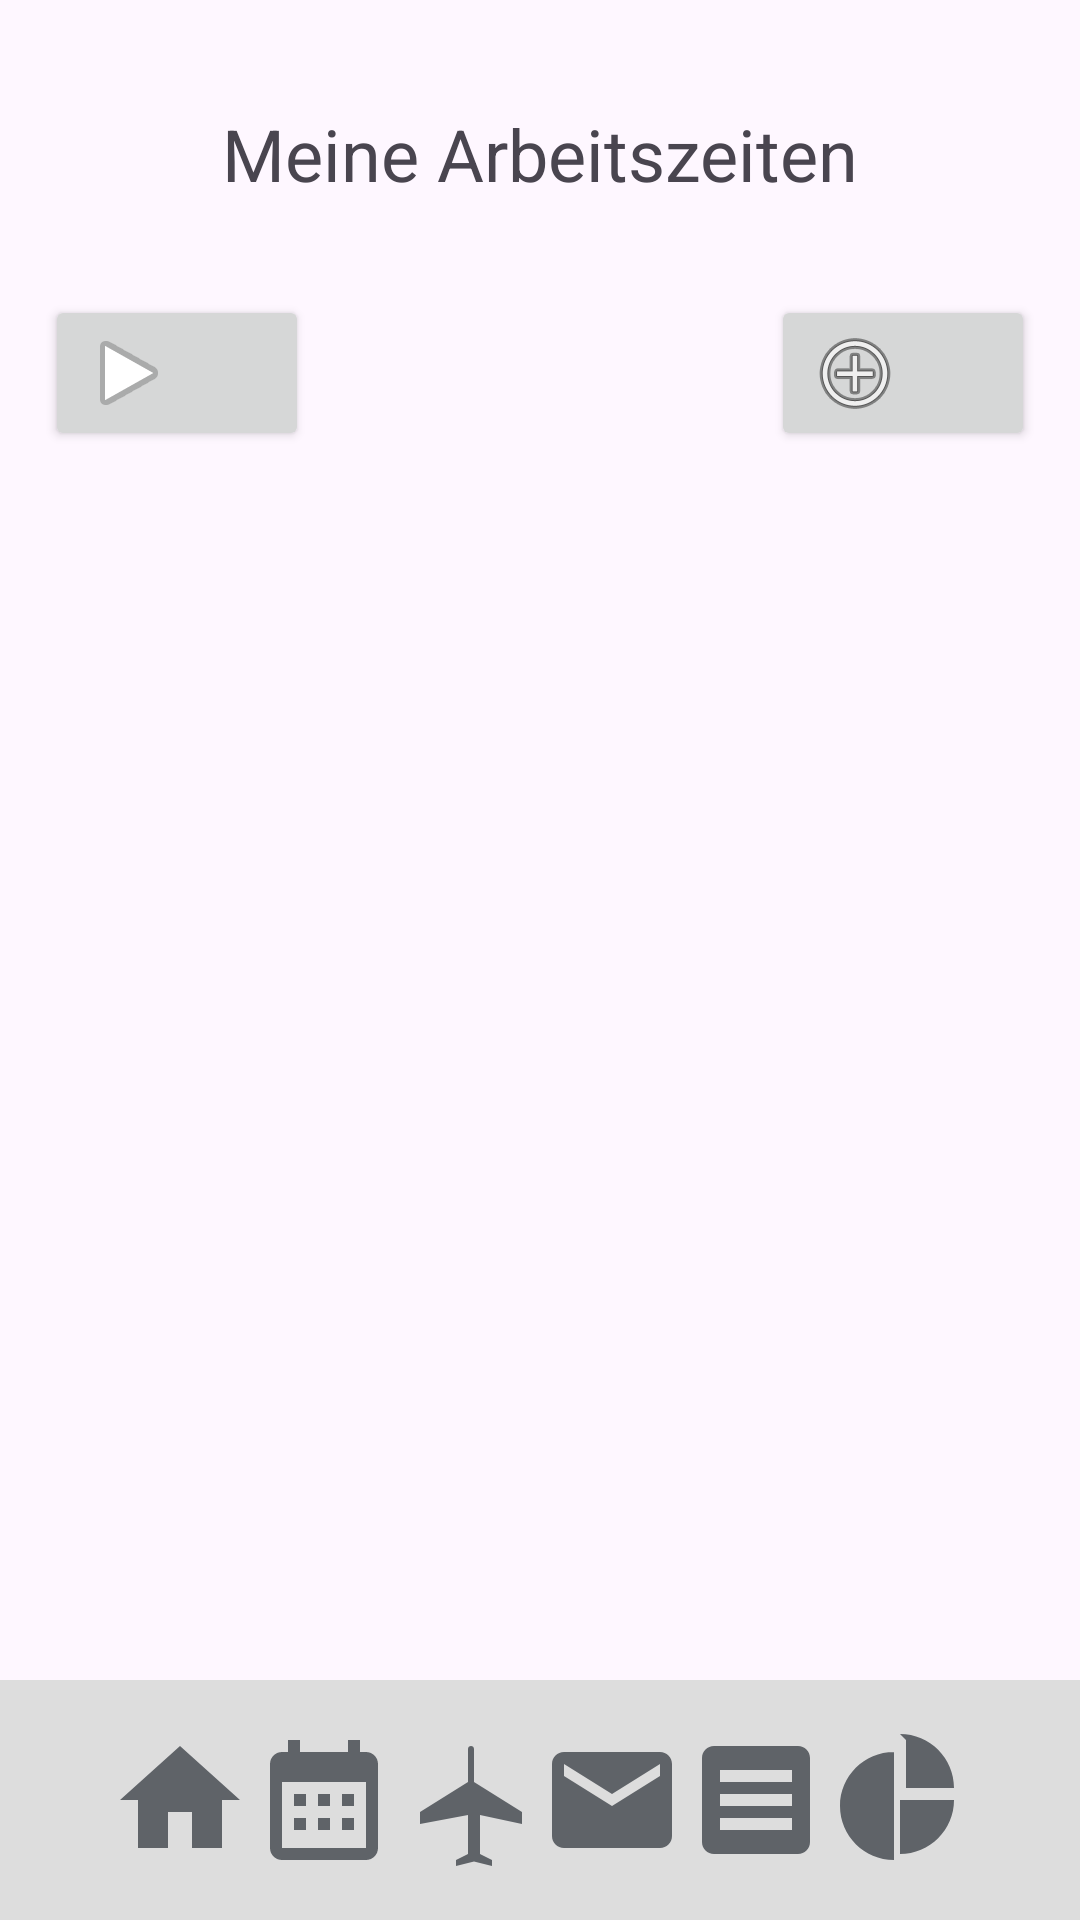

Named icons in this screenshot (1080w x 1920h) and their centers, point (x, y):
Absences: point (471, 1806)
Home: point (180, 1797)
Messages: point (612, 1800)
Reports: point (756, 1800)
Statistics: point (897, 1797)
Work Hours: point (324, 1800)
